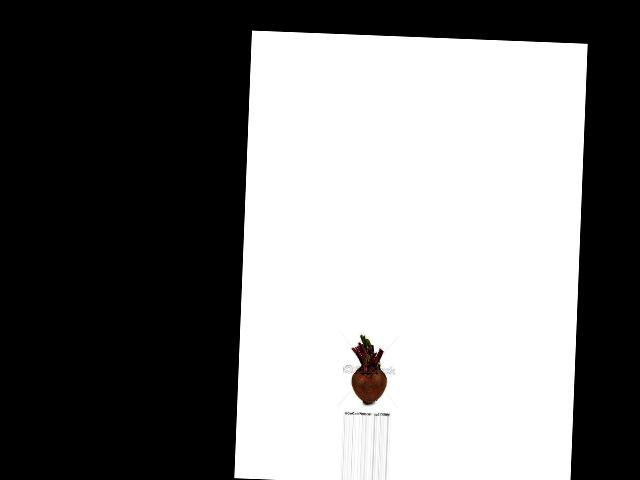beet: (349, 334, 389, 405)
